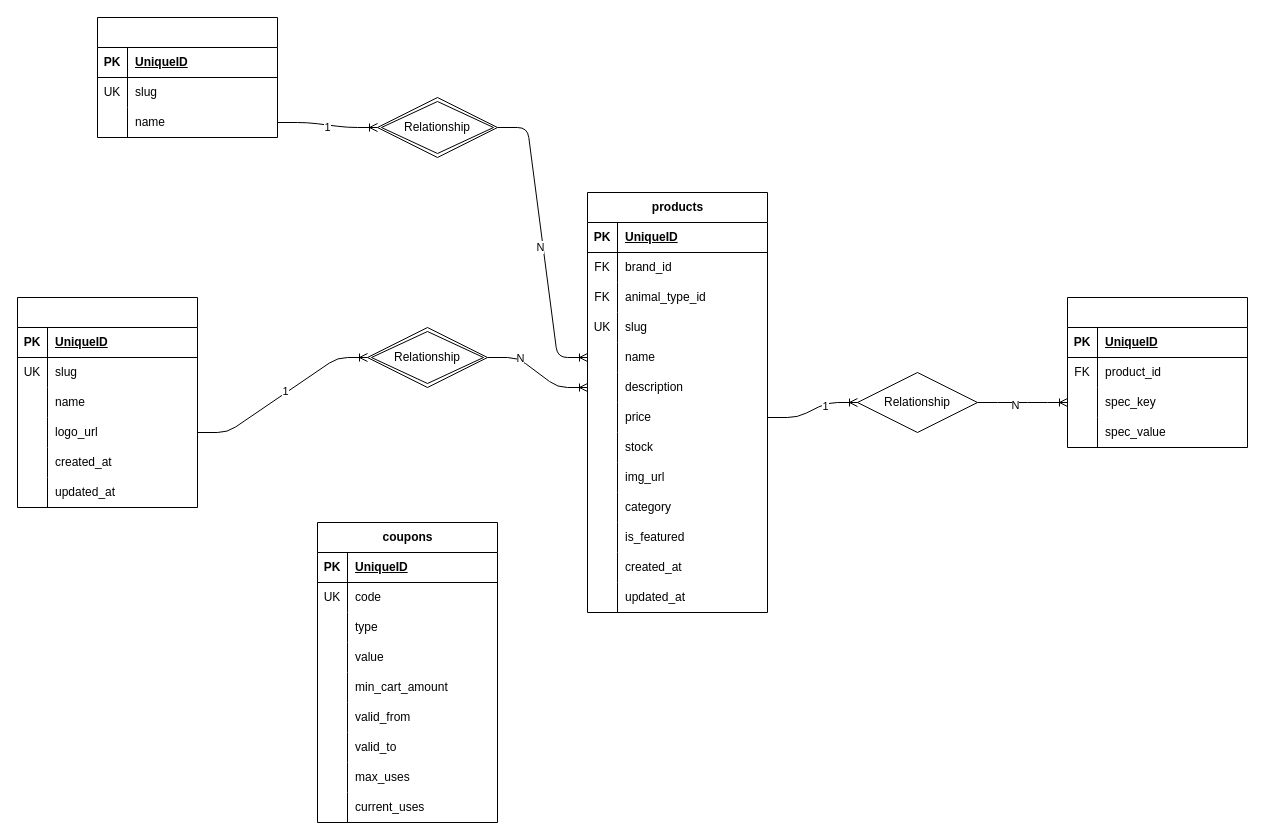
Some shapes in this 1265 by 840 pixel diagram are drawn without their labels. The box of each missing label's shape, as (x1, y1, x2, y2) in pixels:
animal_types: (96, 16, 278, 138)
brands: (16, 296, 198, 508)
product_details: (1066, 296, 1248, 448)
